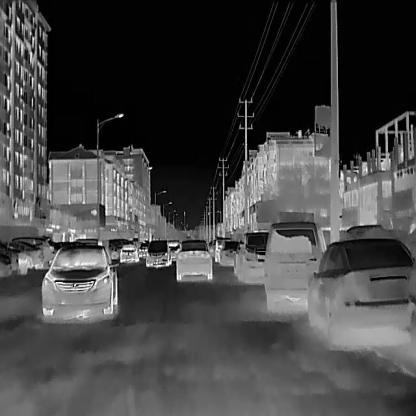car: (307, 238, 415, 347), (40, 244, 118, 316), (263, 220, 326, 307), (233, 231, 268, 283), (176, 239, 212, 280), (4, 241, 42, 266), (145, 240, 171, 266), (218, 241, 239, 266), (119, 244, 138, 262)
